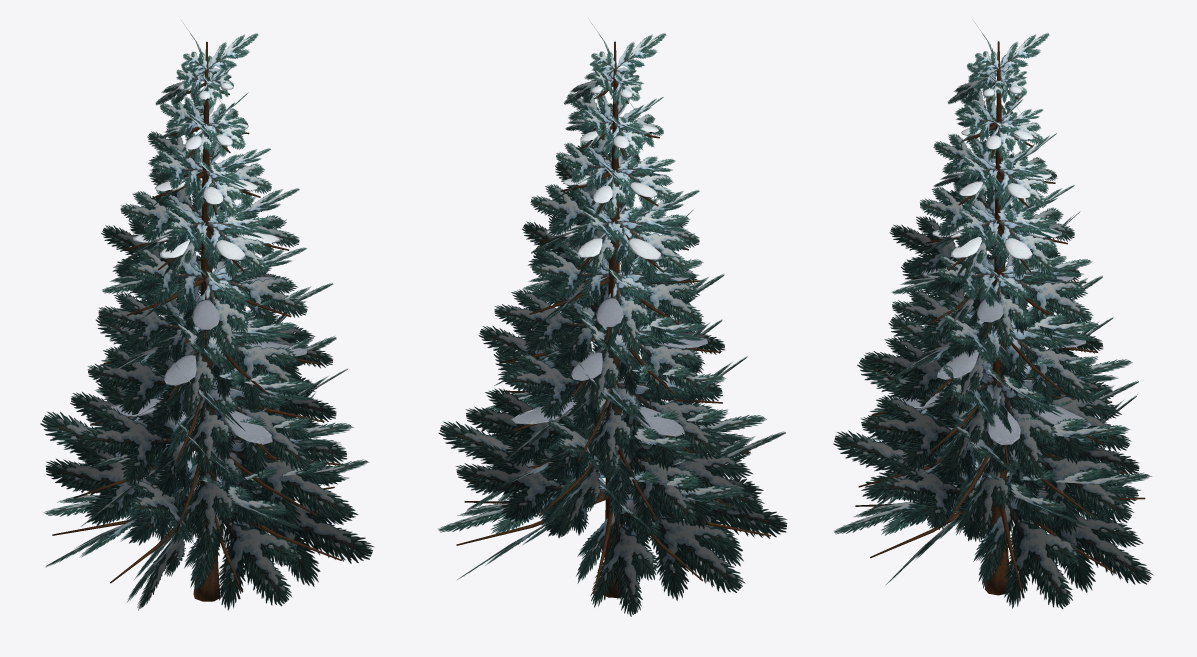
File: tree_spruce_snow.glb
3 renders of one model, left to right at view 1: azimuth 30°, elevation 25°; view 2: azimuth 150°, elevation 25°; view 3: azimuth 270°, elevation 25°, orthographic.
Visible parts, largest first — view 1: TreeCanopy_SpruceSnow, TreeBark_SpruceSnow; view 2: TreeCanopy_SpruceSnow, TreeBark_SpruceSnow; view 3: TreeCanopy_SpruceSnow, TreeBark_SpruceSnow.
Part boxes in pixels (x1=…): TreeCanopy_SpruceSnow: x1=40, y1=20, x2=374, y2=610; TreeBark_SpruceSnow: x1=52, y1=41, x2=343, y2=601; TreeCanopy_SpruceSnow: x1=438, y1=21, x2=787, y2=616; TreeBark_SpruceSnow: x1=456, y1=41, x2=770, y2=597; TreeCanopy_SpruceSnow: x1=833, y1=22, x2=1153, y2=609; TreeBark_SpruceSnow: x1=855, y1=41, x2=1145, y2=595.
Bounding box in the file's own units: 5.38 × 9.39 × 5.48.
2 materials, 2 textured.
